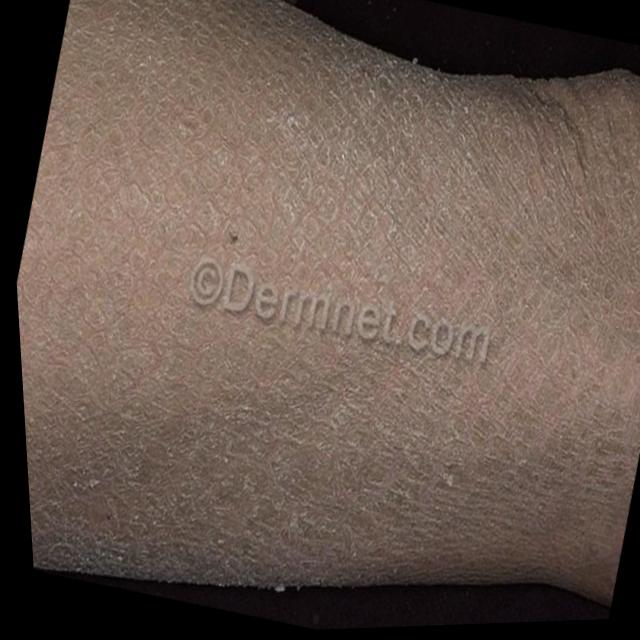liquenificacion 1: (17, 0, 640, 611)
liquenificacion 2: (17, 0, 640, 611)
